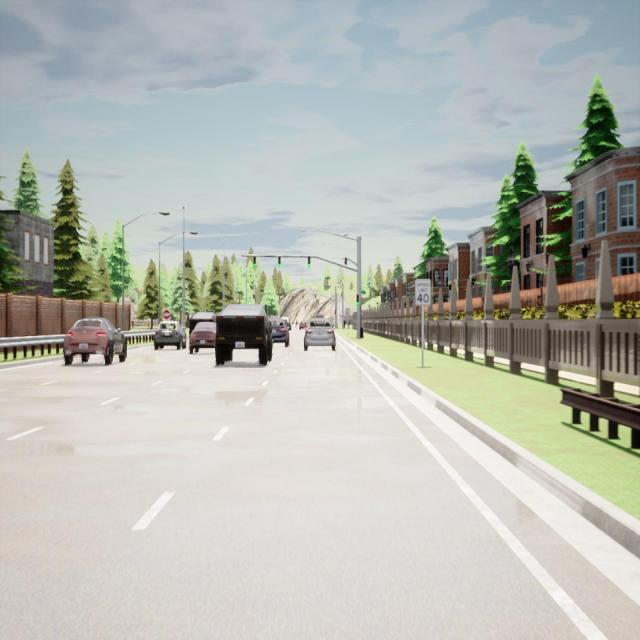Pedestrian: (296, 320, 298, 330)
Traffic_Signs: (415, 279, 430, 305), (163, 308, 170, 320)
Vehicle: (216, 305, 271, 365), (64, 318, 127, 366), (304, 318, 336, 351), (153, 321, 186, 350), (189, 322, 215, 353), (268, 316, 292, 346), (190, 311, 216, 330), (299, 321, 307, 331)
traffic_light: (356, 294, 359, 306), (253, 256, 256, 267), (278, 256, 281, 266), (308, 256, 310, 268)
